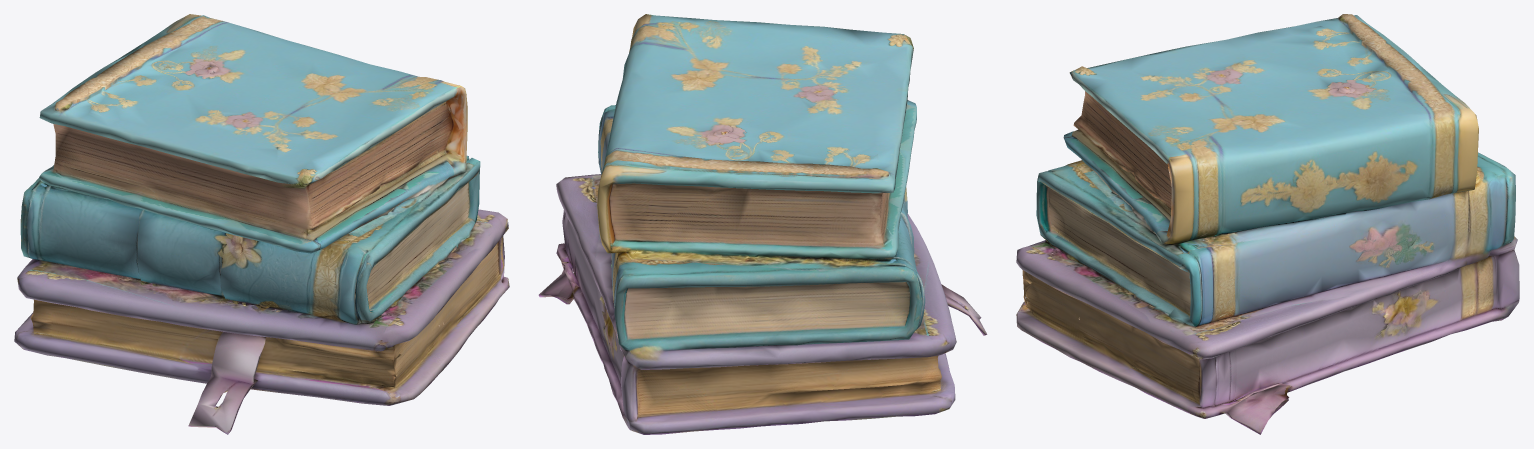
The model's file is Meshy_Model_20250604_190453.glb.
3 views of the same model, side by side, from view 1: azimuth 30°, elevation 25°; view 2: azimuth 150°, elevation 25°; view 3: azimuth 270°, elevation 25° (orthographic). The views are drawn at different scales.
Size of the model in its own units: 1.99 by 1.1 by 2.
Materials: 1 (1 with a texture image).
